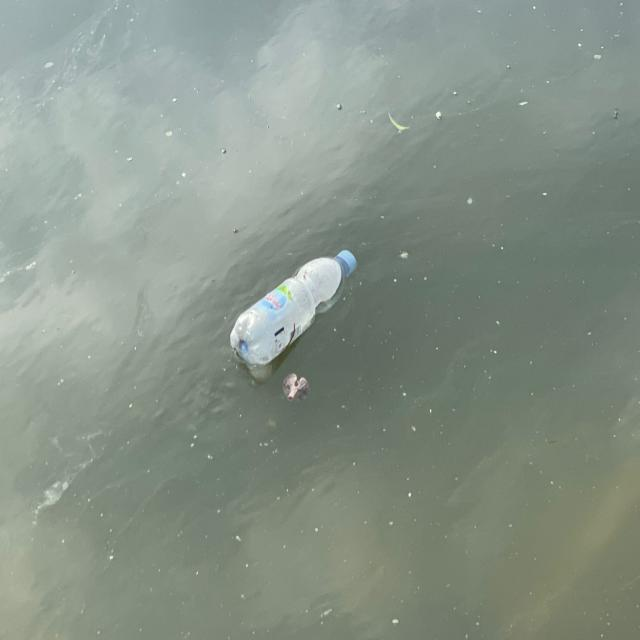Botol Plastik: (229, 243, 362, 385)
